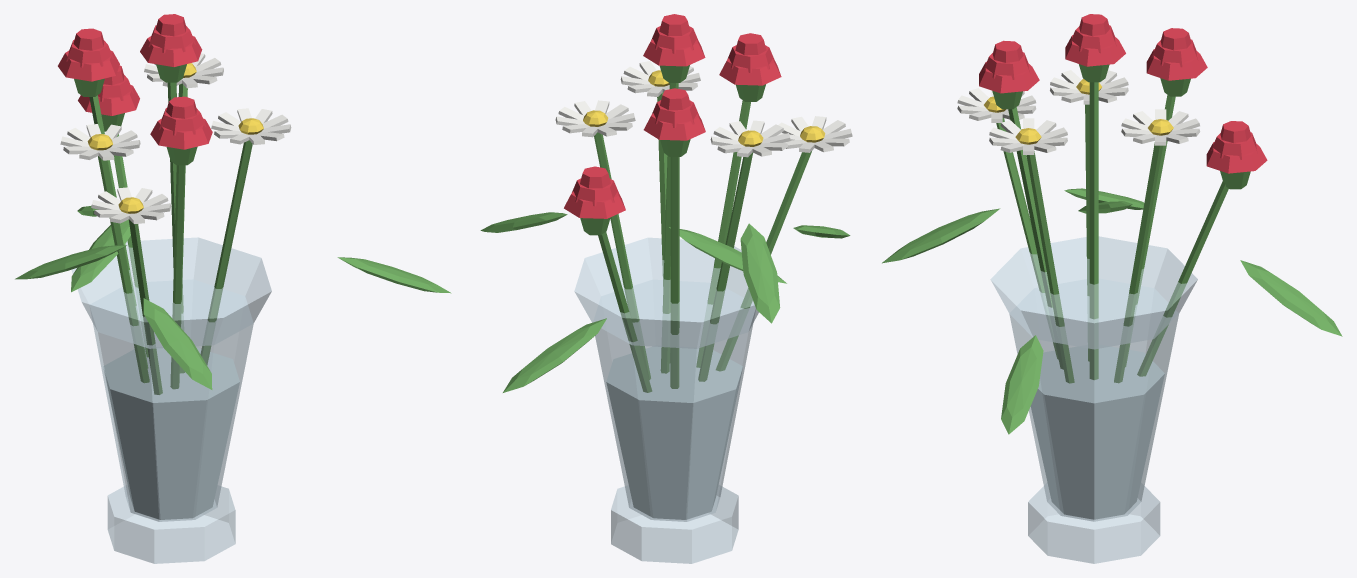
The model's file is vase_bouquet.glb.
3 views of the same model, side by side, from view 1: azimuth 30°, elevation 25°; view 2: azimuth 150°, elevation 25°; view 3: azimuth 270°, elevation 25° (orthographic).
Parts seen in each view (by area): view 1: vase_bouquet; view 2: vase_bouquet; view 3: vase_bouquet.
Part boxes in pixels (x1,y1,x2,y2): vase_bouquet: (15,14,451,563); vase_bouquet: (480,14,852,563); vase_bouquet: (882,14,1342,563).
Bounding box in the file's own units: 0.4453 × 0.604 × 0.4886.
